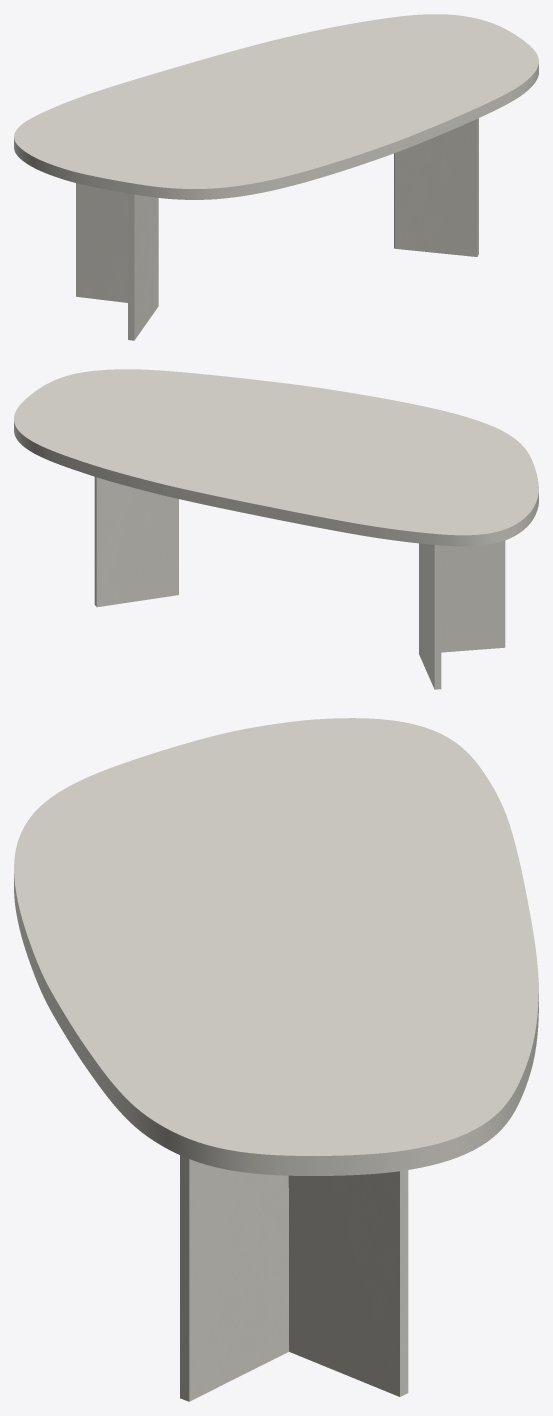
File: pale_leaf2_standard_valleyv.glb
3 renders of one model, top to bottom at view 1: azimuth 30°, elevation 25°; view 2: azimuth 150°, elevation 25°; view 3: azimuth 270°, elevation 25°, orthographic. The views are drawn at different scales.
Parts seen in each view (by area): view 1: standard_leaf2, valleyv; view 2: standard_leaf2, valleyv; view 3: standard_leaf2, valleyv.
Boxes of the visible parts, x1,y1,x2,y2 form: standard_leaf2: (14,14,538,199); valleyv: (76,118,478,340); standard_leaf2: (14,369,538,546); valleyv: (94,477,505,689); standard_leaf2: (14,718,538,1175); valleyv: (180,1155,408,1401).
Bounding box in the file's own units: 7.5 × 2.52 × 3.8.
1 material, 1 textured.
